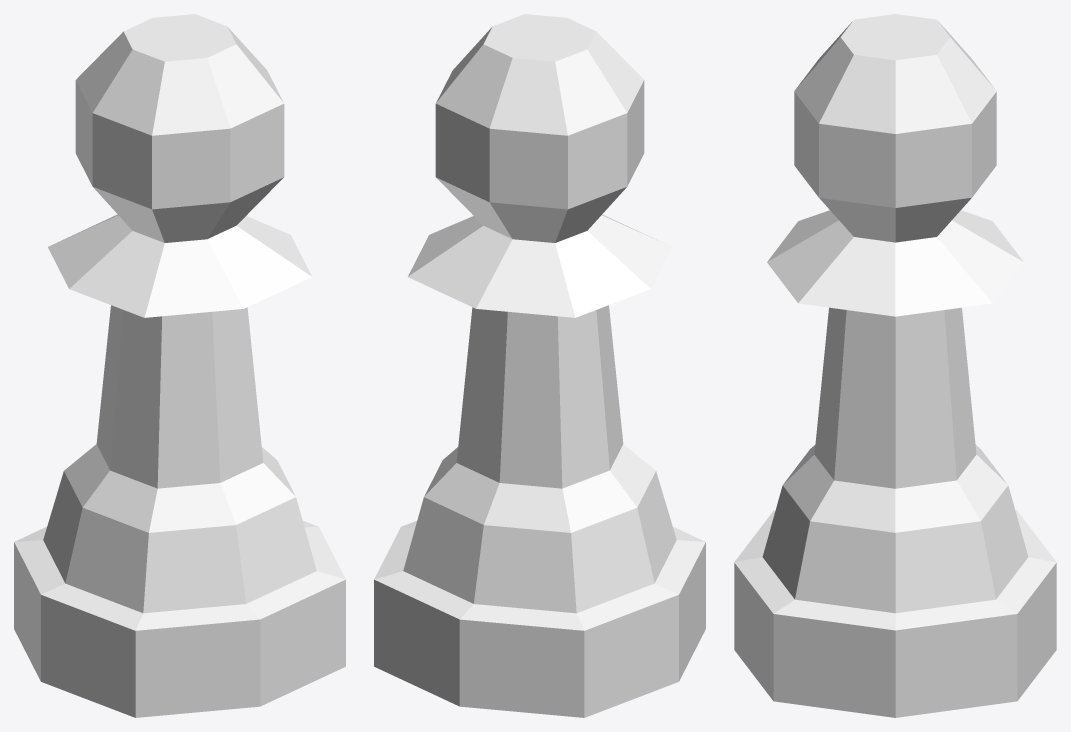
The model's file is Pawn.glb.
3 views of the same model, side by side, from view 1: azimuth 30°, elevation 25°; view 2: azimuth 150°, elevation 25°; view 3: azimuth 270°, elevation 25° (orthographic).
Visible parts, largest first — view 1: Pawn_Cube.041; view 2: Pawn_Cube.041; view 3: Pawn_Cube.041.
Boxes of the visible parts, x1,y1,x2,y2 form: Pawn_Cube.041: [14, 14, 345, 717]; Pawn_Cube.041: [374, 14, 705, 717]; Pawn_Cube.041: [734, 14, 1056, 717].
Bounding box in the file's own units: 0.324 × 0.679 × 0.324.
Materials: 1 (1 with a texture image).
